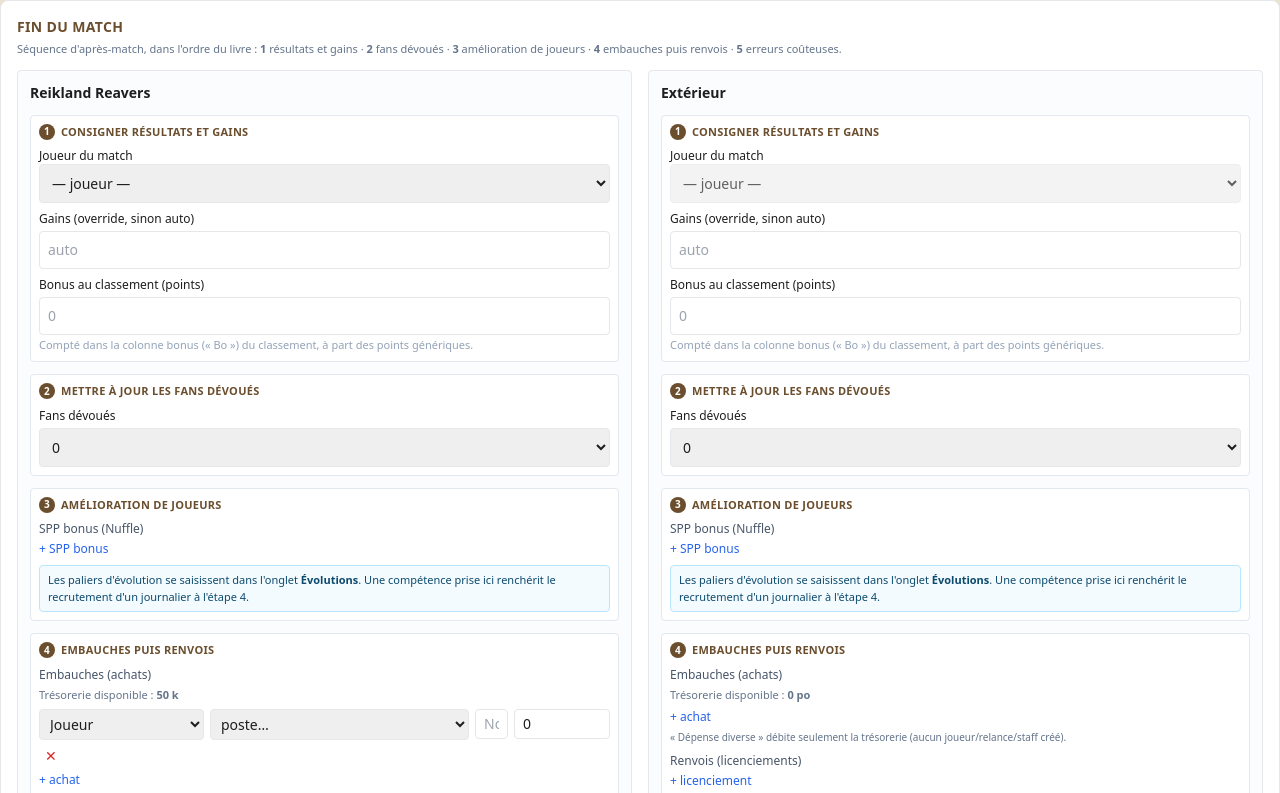
Scenario: PostMatchPanel — catalogue d'embauche (E46/E47) › remplit le prix du poste choisi
Step 1. Select "Trois-quart Haut Elfe (0/16) — 60 k" in the dropdown with test id "purchases-home-position-0" → coordinates (340, 724), box [210,708,469,740]
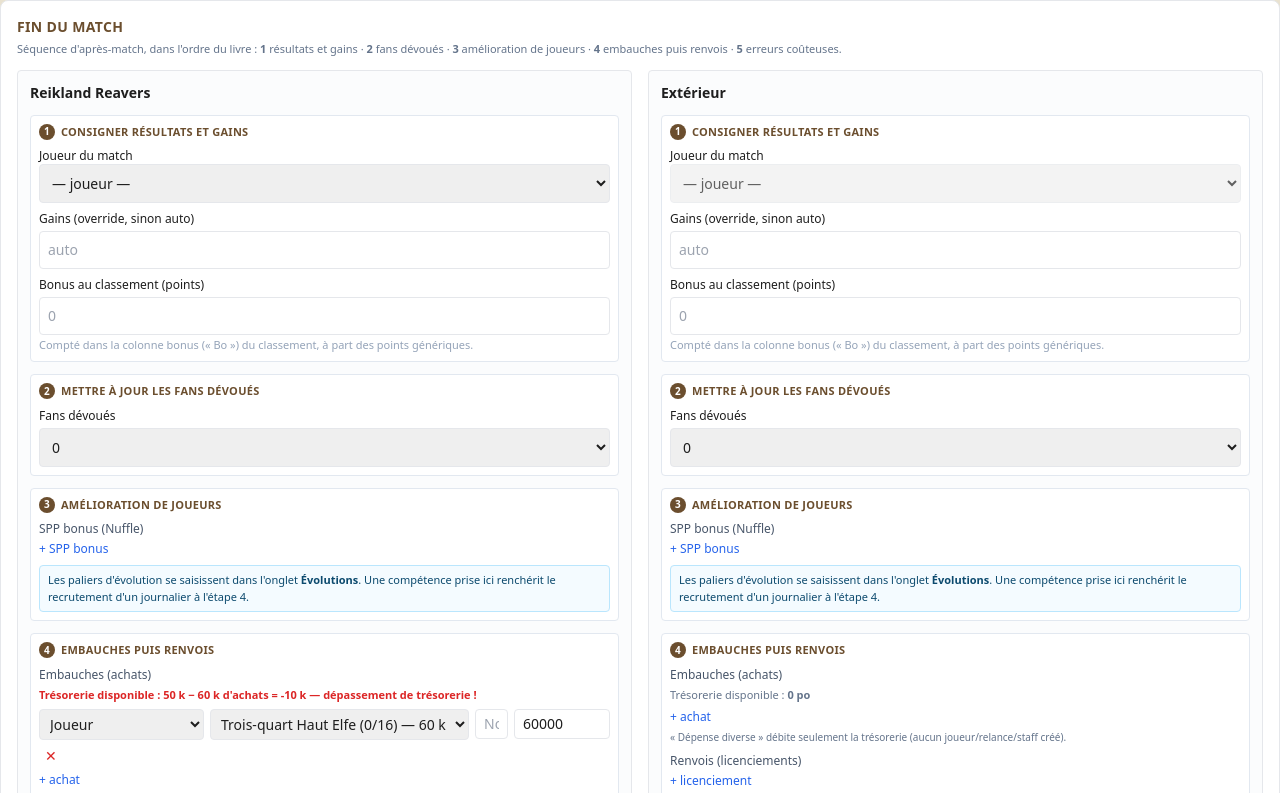
Result: the number field with test id "purchases-home-cost-0" holds "60000" at [514,709,610,739]
